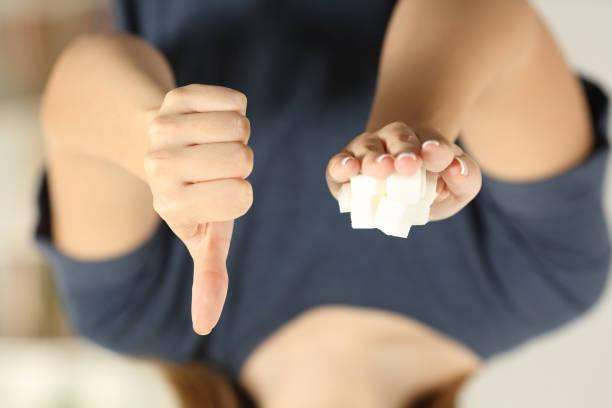thumbsdown: (142, 81, 256, 338)
